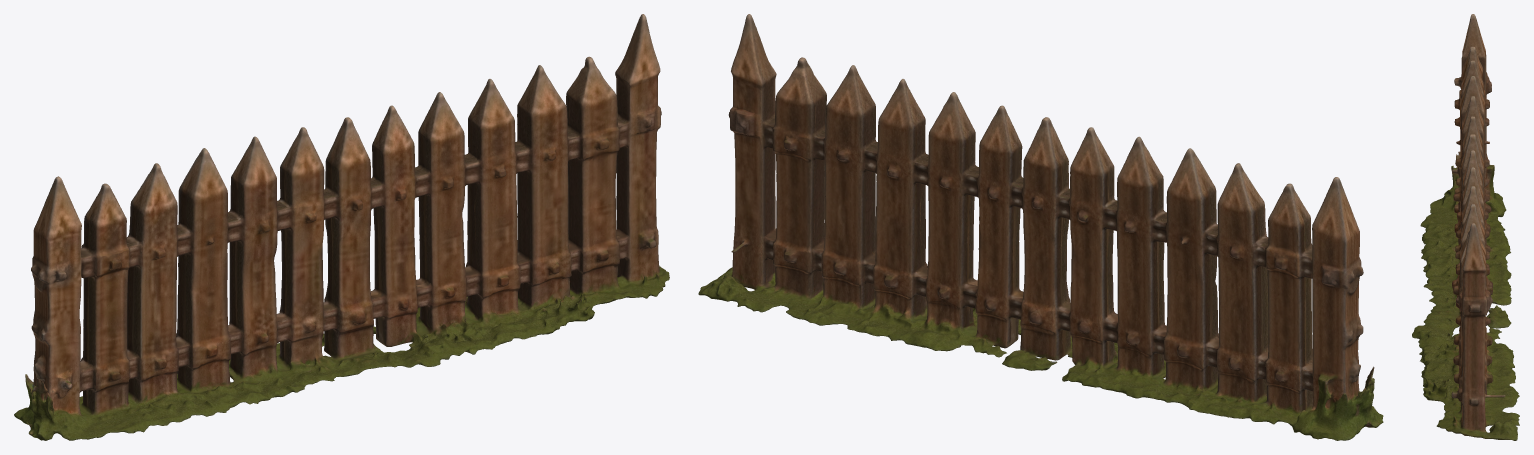
The model's file is Estrutura_md_14.glb.
3 views of the same model, side by side, from view 1: azimuth 30°, elevation 25°; view 2: azimuth 150°, elevation 25°; view 3: azimuth 270°, elevation 25° (orthographic). The views are drawn at different scales.
Size of the model in its own units: 1.88 by 0.7486 by 0.346.
Materials: 1 (1 with a texture image).
